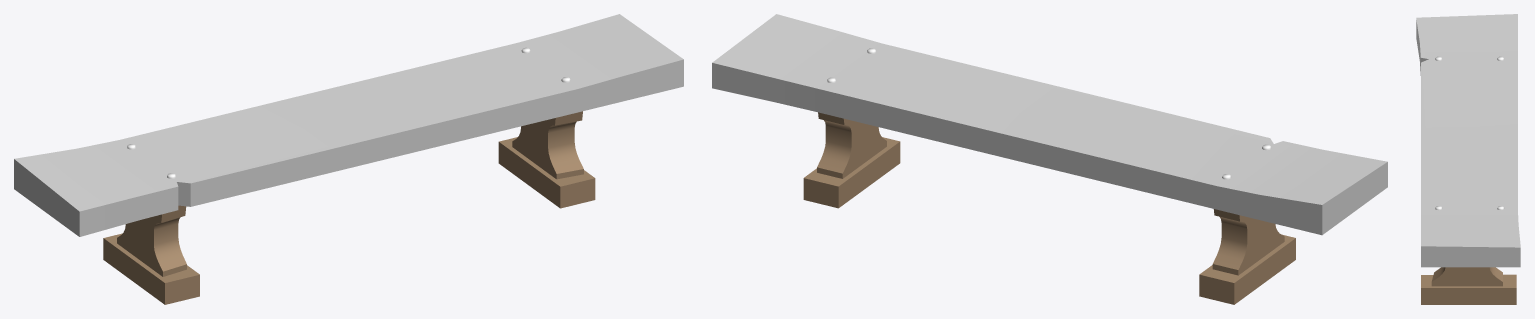
The model's file is Bench.gltf.
3 views of the same model, side by side, from view 1: azimuth 30°, elevation 25°; view 2: azimuth 150°, elevation 25°; view 3: azimuth 270°, elevation 25° (orthographic). The views are drawn at different scales.
Visible parts, largest first — view 1: Bench; view 2: Bench; view 3: Bench.
Boxes of the visible parts, x1,y1,x2,y2 form: Bench: [14, 14, 683, 304]; Bench: [712, 14, 1387, 304]; Bench: [1416, 14, 1520, 304].
Bounding box in the file's own units: 2.78 × 0.5332 × 0.5343.
